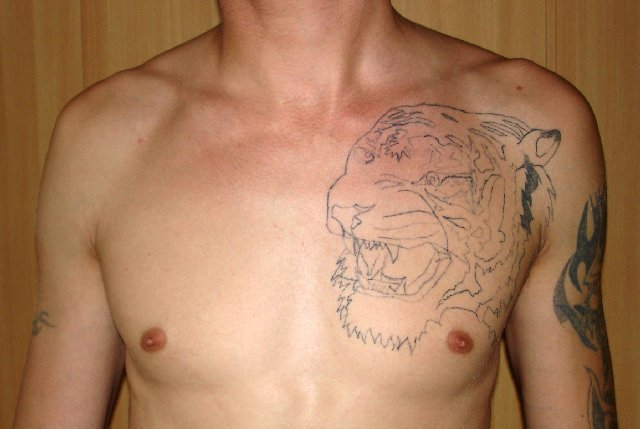tatu5_tigr: (318, 102, 566, 352)
